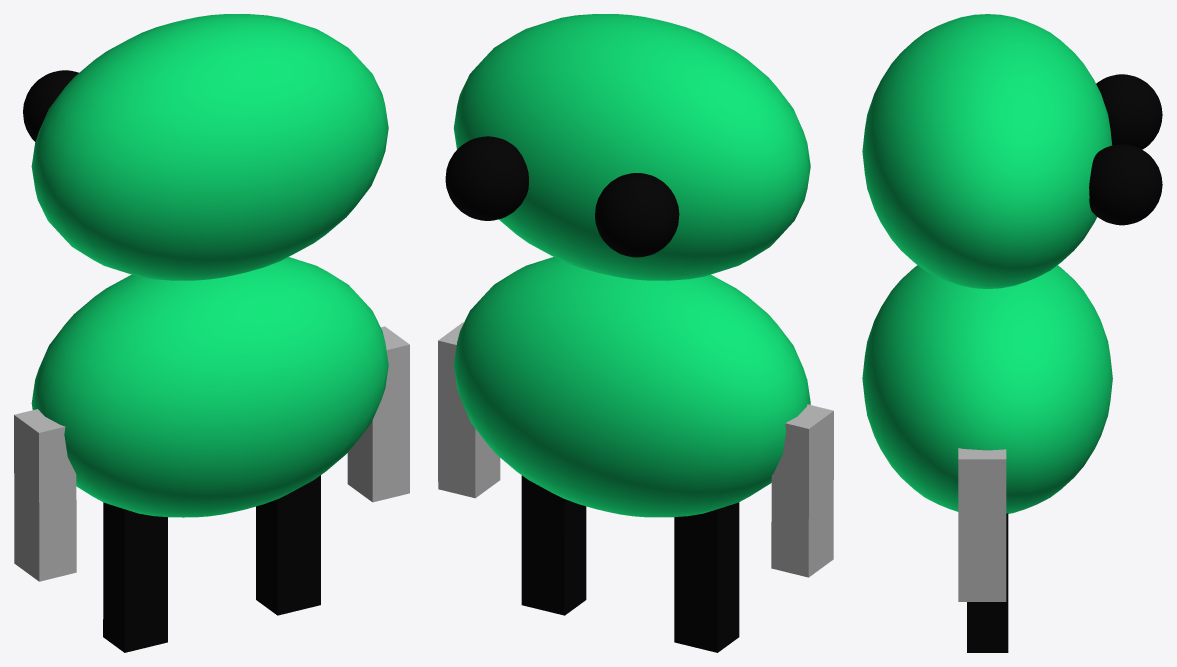
Rendered from AlienWalking02.fbx.
The picture shows the model from 3 angles, left to right: view 1: azimuth 30°, elevation 25°; view 2: azimuth 150°, elevation 25°; view 3: azimuth 270°, elevation 25°; orthographic projection. The views are drawn at different scales.
Parts seen in each view (by area): view 1: Head, MainBody, LArm, LLeg, RLeg, RArm; view 2: Head, MainBody, LArm, LLeg, RLeg, RArm; view 3: Head, MainBody, RArm, RLeg.
Part boxes in pixels (left/top/right/bottom): Head: left=23, top=14, right=388, bottom=280; MainBody: left=31, top=257, right=388, bottom=517; LArm: left=14, top=409, right=76, bottom=581; LLeg: left=103, top=502, right=167, bottom=652; RLeg: left=256, top=475, right=320, bottom=615; RArm: left=347, top=326, right=409, bottom=502; Head: left=445, top=14, right=810, bottom=280; MainBody: left=454, top=257, right=810, bottom=517; LArm: left=771, top=404, right=833, bottom=577; LLeg: left=674, top=502, right=739, bottom=652; RLeg: left=521, top=475, right=586, bottom=615; RArm: left=438, top=322, right=500, bottom=498; Head: left=862, top=14, right=1162, bottom=288; MainBody: left=862, top=265, right=1112, bottom=513; RArm: left=958, top=448, right=1006, bottom=601; RLeg: left=967, top=513, right=1008, bottom=652.
Bounding box in the file's own units: 94.31 × 144 × 68.96.
